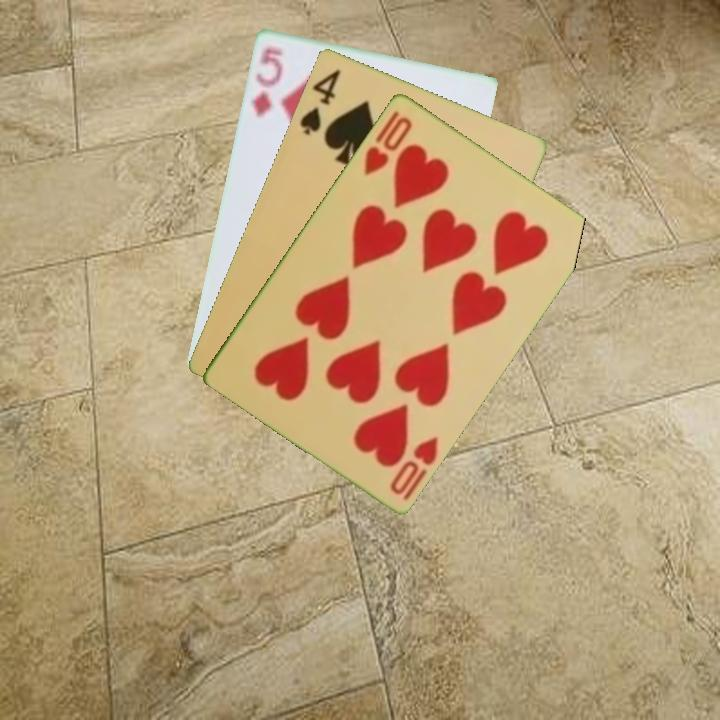10h: (386, 432, 442, 503), (360, 112, 416, 178)
4s: (296, 65, 344, 138)
5d: (247, 43, 285, 119)
